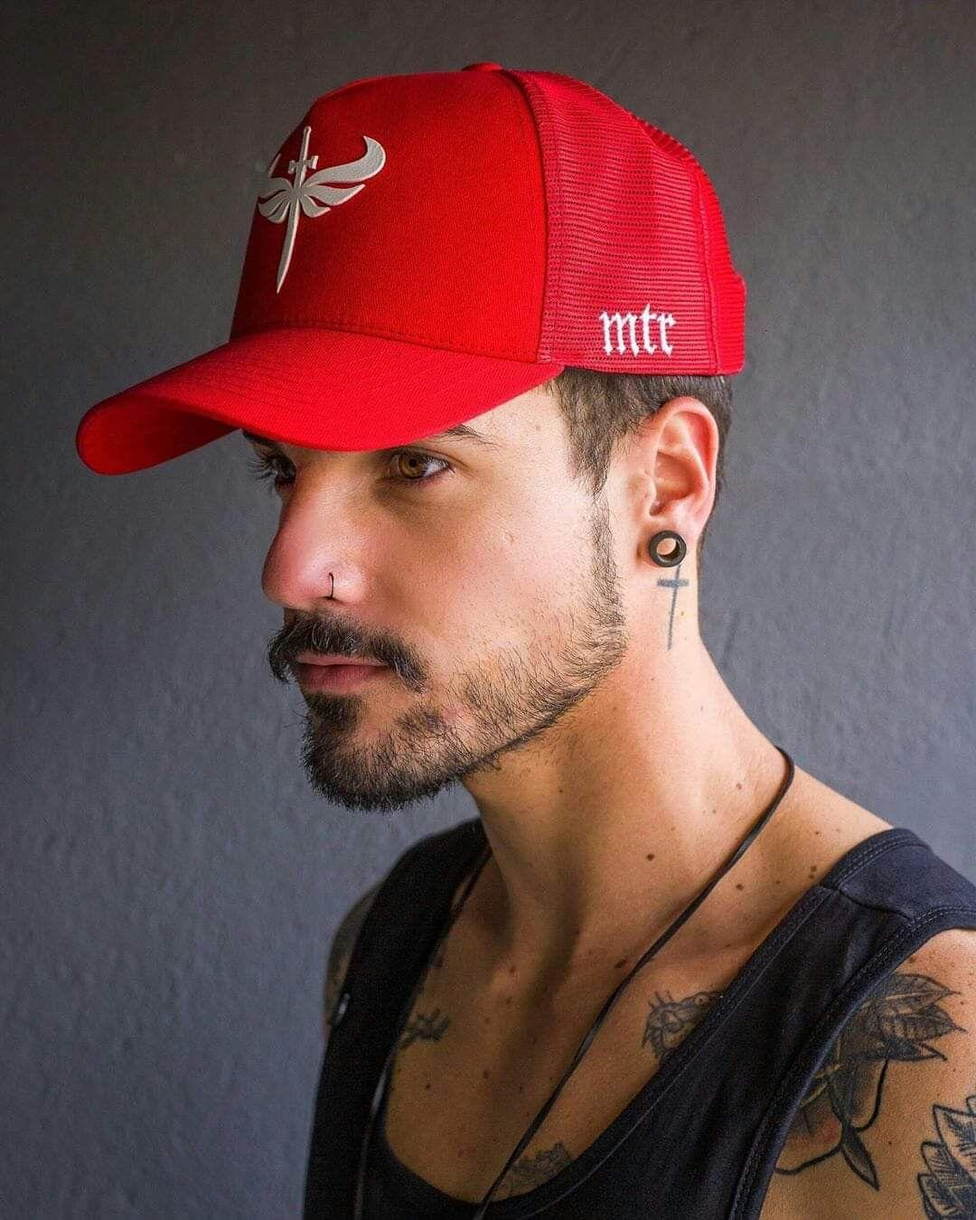cap: (75, 39, 759, 506)
